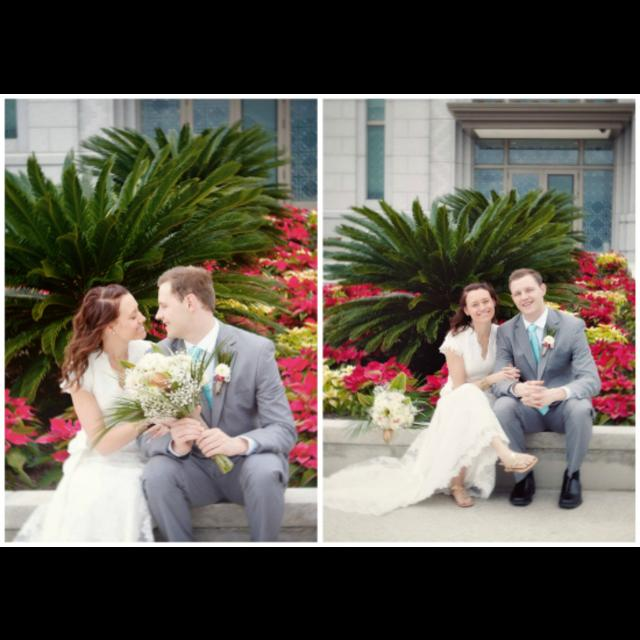Flower: (204, 202, 314, 470), (558, 250, 634, 418), (322, 334, 444, 406), (124, 350, 208, 418), (2, 386, 56, 452), (33, 406, 85, 458), (324, 283, 420, 303), (368, 391, 418, 429), (146, 320, 166, 340), (215, 363, 231, 379)
